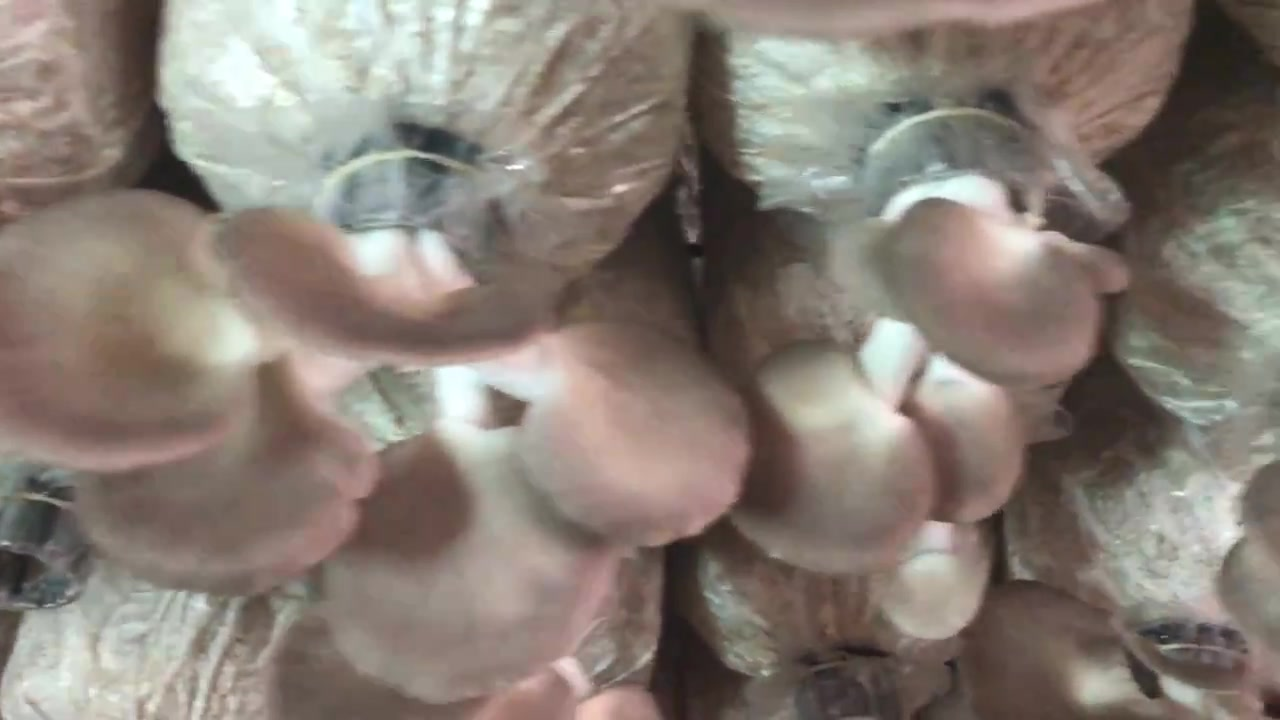nam: (1, 149, 749, 703), (723, 113, 1130, 637), (957, 581, 1263, 716)
